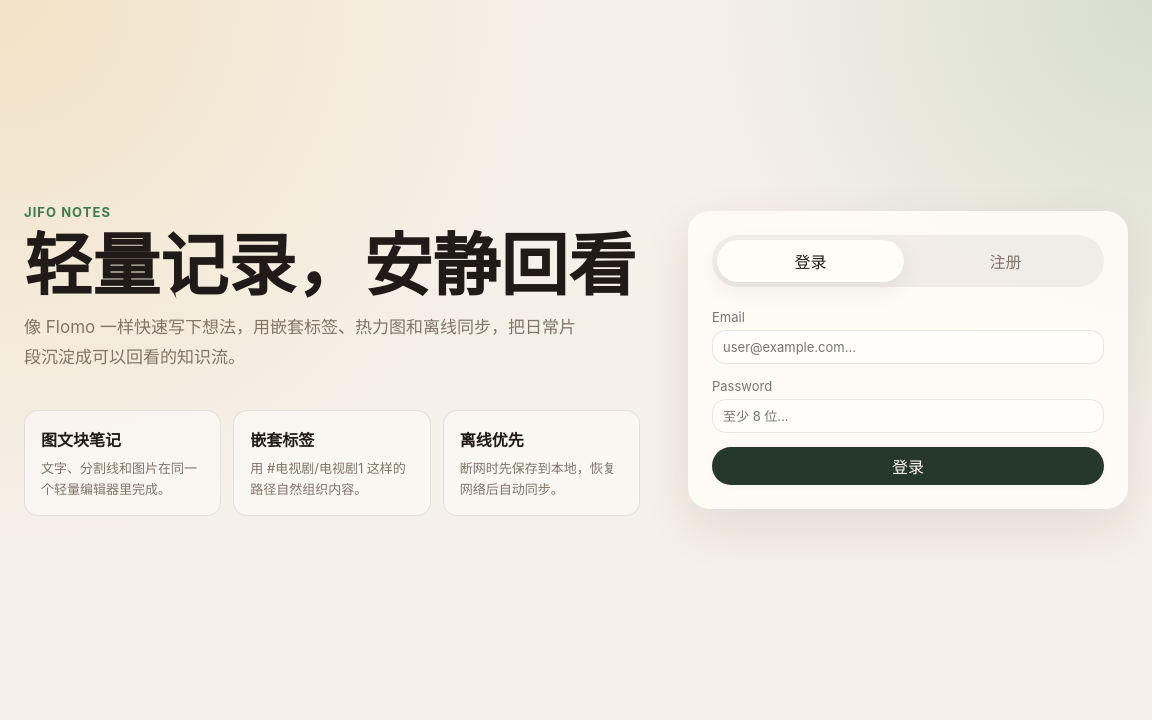
Test: LoginPage › 呈现温暖克制的产品化登录界面并支持切换注册模式
Expected: the heading "轻量记录，安静回看" is shown, [24,233,640,298]
Click the button with aria-label "注册模式".
click(1006, 261)  # box [912,240,1099,282]
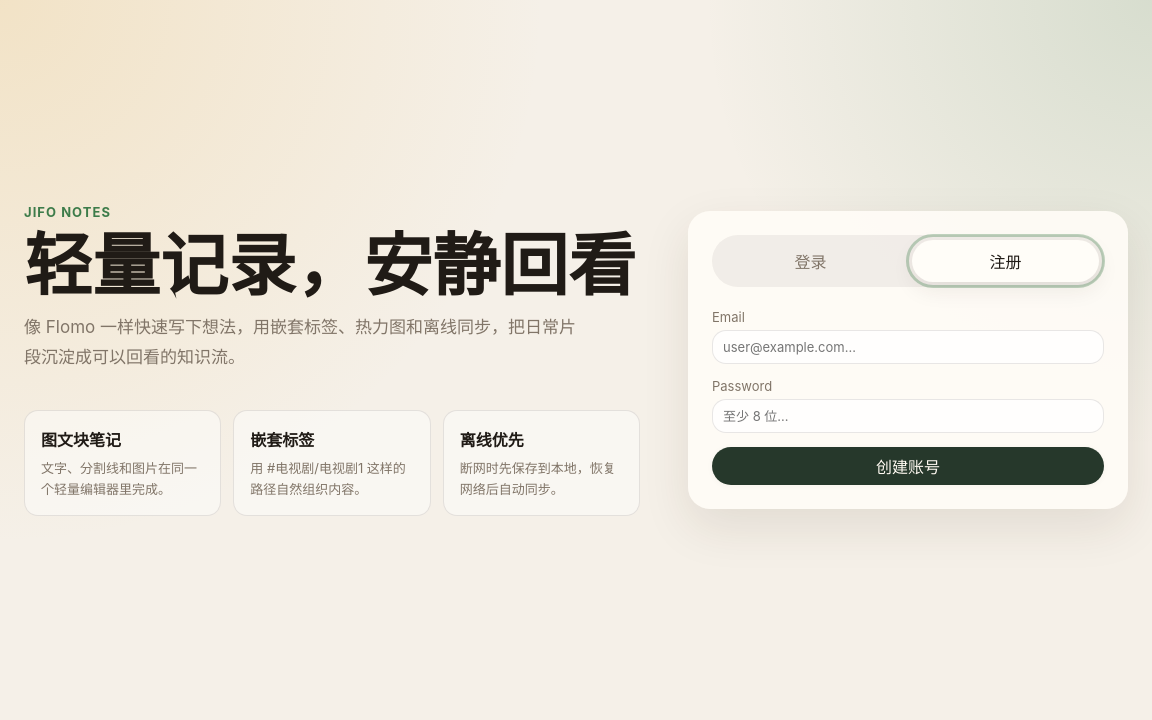
Now the button "创建账号" is shown, box [712,447,1104,485]
